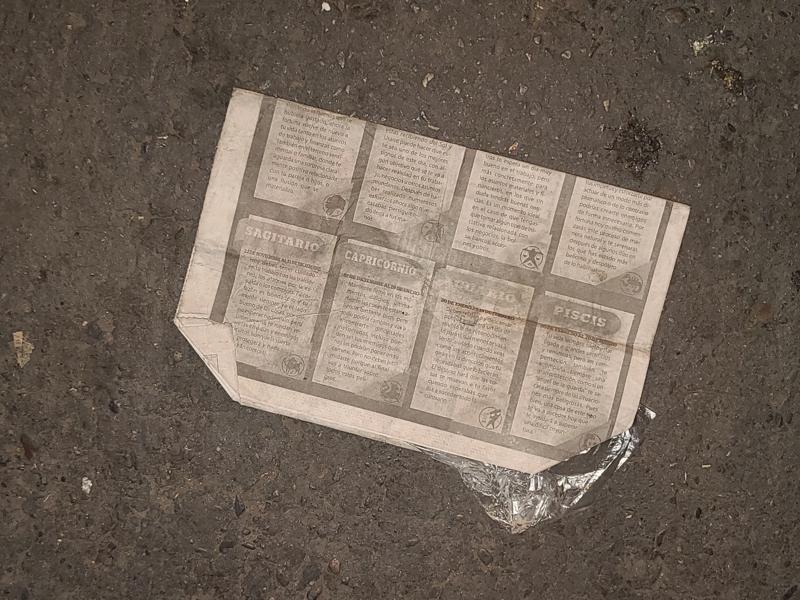papel: (171, 90, 689, 534)
